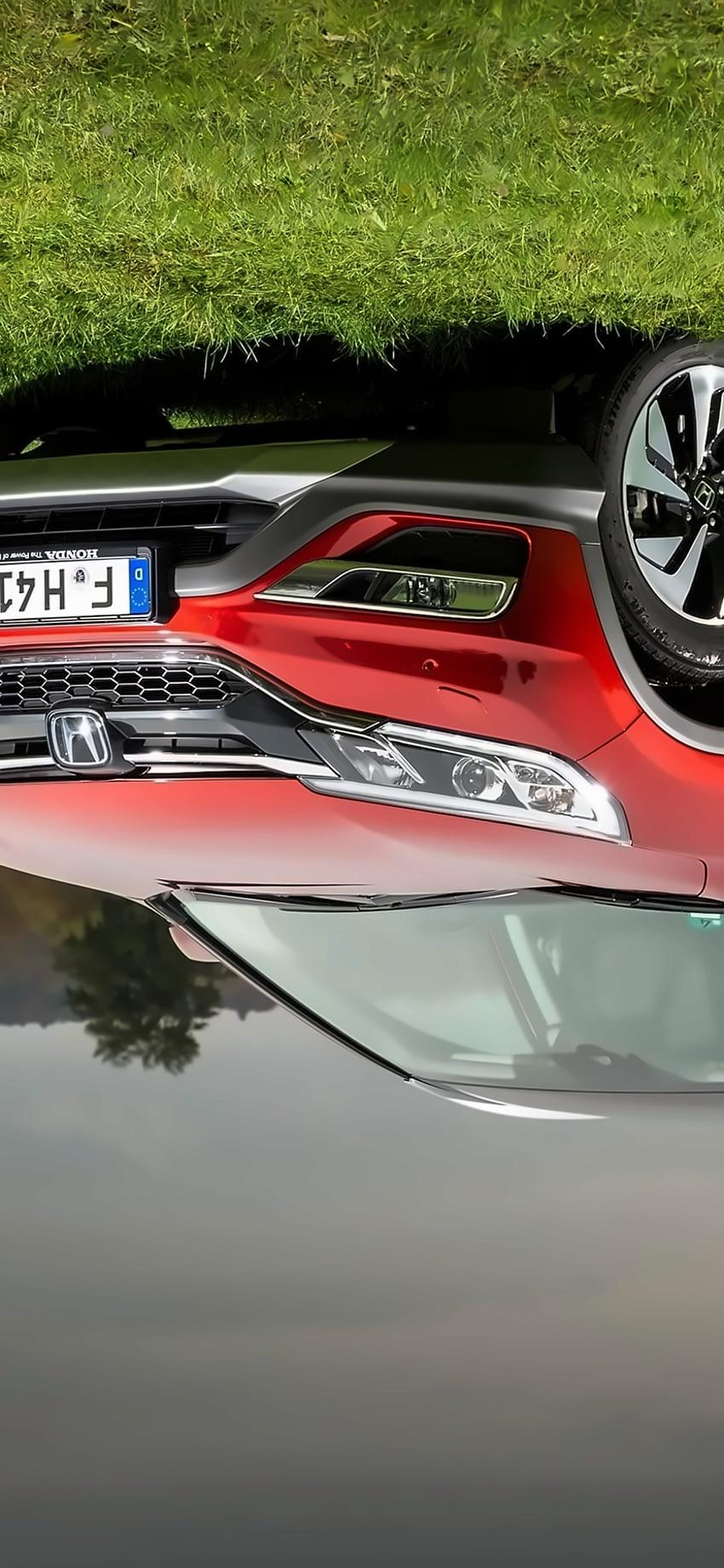Car hood: (0, 772, 709, 907)
Front bumper: (0, 440, 661, 750)
Headlight - -R-: (288, 694, 644, 852)
